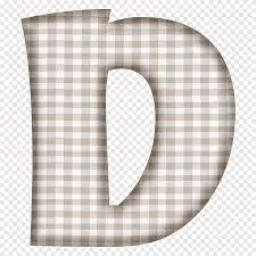d: (10, 12, 242, 252)
